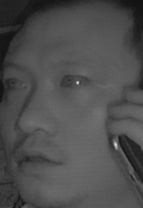eye: (57, 71, 92, 92), (4, 74, 28, 92)
mouth: (14, 142, 66, 176)
